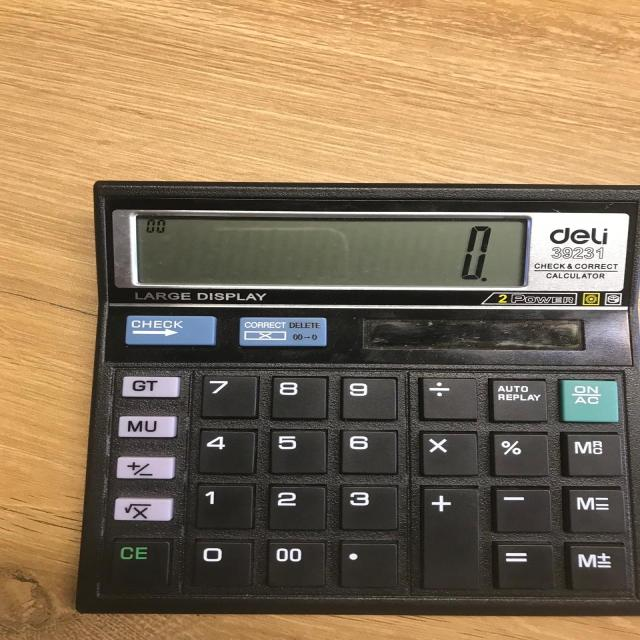calculator: (74, 178, 638, 616)
